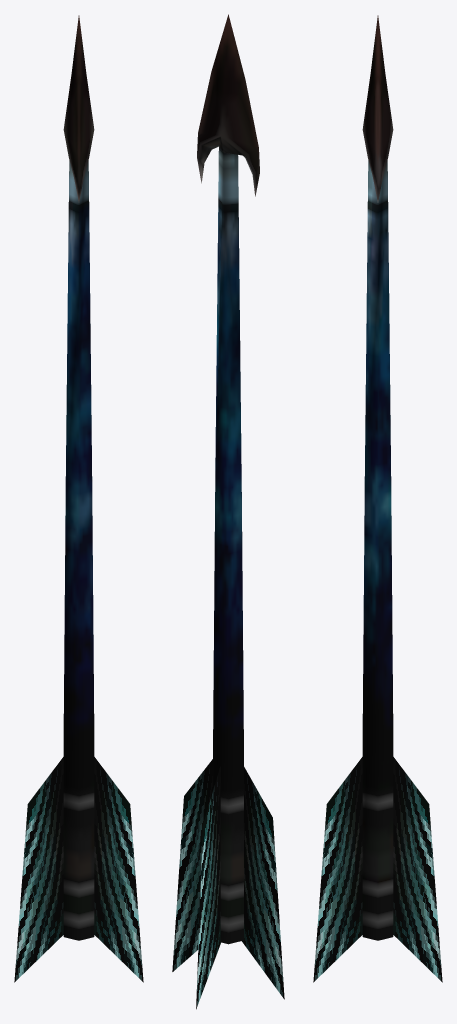
File: INST_LAKETOWN_BLACKARROW.fbx
3 renders of one model, left to right at view 1: azimuth 90°, elevation 25°; view 2: azimuth 150°, elevation 25°; view 3: azimuth 270°, elevation 25°, orthographic.
Visible parts, largest first — view 1: INST_LAKETOWN_BLACKARROW; view 2: INST_LAKETOWN_BLACKARROW; view 3: INST_LAKETOWN_BLACKARROW.
Boxes of the visible parts, box(x1,y1,x2,y2) form: INST_LAKETOWN_BLACKARROW: box(14, 15, 143, 982); INST_LAKETOWN_BLACKARROW: box(172, 14, 284, 1009); INST_LAKETOWN_BLACKARROW: box(313, 15, 442, 982).
Size of the model in its own units: 1462 by 12096 by 1462.
2 materials, 2 textured.
